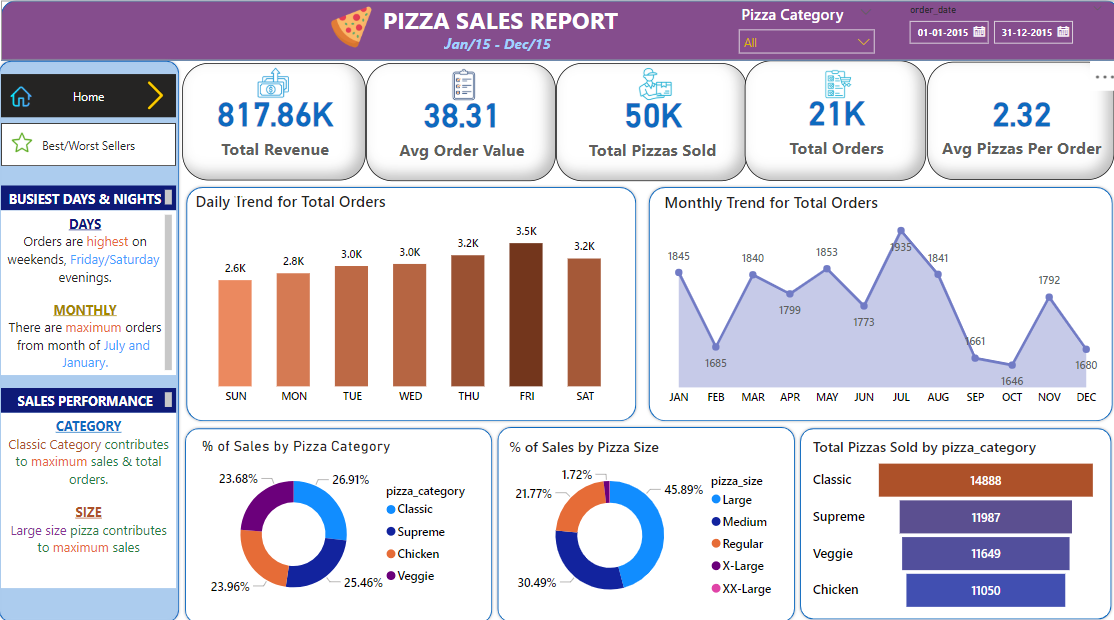

The dashboard page shown, as its layout file describes it:
{"tool":"powerbi","page":{"name":"Home","canvas":[1280,720],"ordinal":0},"visuals":[{"type":"group","id":"g1","title":"Group 6","box":[211.5,77.2,1060.5,137.7],"z":0},{"type":"card","fields":{"Values":["pizza_sales.Avg Pizzas Per Order"]},"box":[1059.3,78.5,212.7,134.5],"z":0,"group":"g1"},{"type":"card","fields":{"Values":["pizza_sales.Total Revenue"]},"box":[211.5,80.2,209.1,133.4],"z":0,"group":"g3"},{"type":"card","fields":{"Values":["pizza_sales.Avg Order Value"]},"box":[420.6,80.2,215.8,134.8],"z":0,"group":"g6"},{"type":"group","id":"g2","title":"Group 2","box":[636.4,80.2,217.2,134.8],"z":0,"group":"g4"},{"type":"card","fields":{"Values":["pizza_sales.Total Pizzas Sold"]},"box":[636.4,80.2,217.2,134.8],"z":1,"group":"g2"},{"type":"image","box":[282.1,77.4,65.2,50.9],"z":5,"group":"g3"},{"type":"shape","box":[6.1,8.6,1273.8,68.5],"z":1000},{"type":"group","id":"g3","title":"Group 1","box":[211.5,77.4,209.1,136.1],"z":1000,"group":"g1"},{"type":"image","box":[712.4,80.2,74.7,48.1],"z":1000,"group":"g4"},{"type":"textbox","box":[435.2,7.3,336.2,48.9],"z":2000},{"type":"card","fields":{"Values":["pizza_sales.Total Orders"]},"box":[852.1,77.2,206.6,136.9],"z":2000,"group":"g5"},{"type":"group","id":"g4","title":"Group 3","box":[636.4,80.2,217.2,134.8],"z":2000,"group":"g1"},{"type":"textbox","box":[504.9,37.9,199.3,36.7],"z":3000},{"type":"group","id":"g5","title":"Group 4","box":[852.1,77.2,206.6,136.9],"z":3000,"group":"g1"},{"type":"image","box":[363.1,9.8,83.1,57.5],"z":4000},{"type":"group","id":"g6","title":"Group 5","box":[420.6,80.2,215.8,134.8],"z":4000,"group":"g1"},{"type":"image","box":[924.2,83.2,67.9,42.6],"z":4001,"group":"g5"},{"type":"image","box":[490.9,81.3,82.8,46.8],"z":4002,"group":"g6"},{"type":"shape","box":[212.7,217.6,518.3,272.6],"z":5000},{"type":"columnChart","title":"Daily Trend for Total Orders","fields":{"Category":["pizza_sales.Order Day"],"Y":["pizza_sales.Total Orders"]},"box":[222.5,224.9,500,253],"z":6000},{"type":"shape","box":[739.6,217.6,534.2,272.6],"z":7000},{"type":"areaChart","title":"Monthly Trend for Total Orders","fields":{"Category":["pizza_sales.Order Month"],"Y":["pizza_sales.Total Orders"]},"box":[755.4,226.1,507.3,251.8],"z":8000},{"type":"shape","box":[211.5,491.4,355.7,228.6],"z":9000},{"type":"shape","box":[567.2,490.2,344.7,228.6],"z":10000},{"type":"shape","box":[911.9,491.4,360.6,223.7],"z":11000},{"type":"donutChart","title":"% of Sales by Pizza Category","fields":{"Category":["pizza_sales.pizza_category"],"Y":["pizza_sales.Total Revenue"]},"box":[228.6,504.9,322.7,202.9],"z":12000},{"type":"donutChart","title":"% of Sales by Pizza Size","fields":{"Y":["pizza_sales.Total Revenue"],"Category":["pizza_sales.pizza_size"]},"box":[579.4,504.9,321.5,202.9],"z":13000},{"type":"funnel","fields":{"Category":["pizza_sales.pizza_category"],"Y":["pizza_sales.Total Pizzas Sold"]},"box":[924.1,504.9,333.7,202.9],"z":14000},{"type":"shape","box":[0,74.6,211.5,645.4],"z":15000},{"type":"textbox","box":[185.8,209.9,156.5,31.8],"z":15002,"group":"g7"},{"type":"group","id":"g7","title":"Group 7","box":[185.8,209.9,156.5,31.8],"z":16000},{"type":"textbox","box":[6.1,218.8,199.3,28.1],"z":17000},{"type":"textbox","box":[6.1,246.9,199.3,187],"z":18000},{"type":"textbox","box":[6.1,449.8,199.3,28.1],"z":19000},{"type":"textbox","box":[6.1,478,199.3,199.3],"z":20000},{"type":"slicer","fields":{"Values":["pizza_sales.pizza_category"]},"box":[835.4,7.2,174.6,62],"z":21000},{"type":"slicer","fields":{"Values":["pizza_sales.order_date"]},"box":[1027.2,7.2,243.8,67.8],"z":22000},{"type":"pageNavigator","box":[5.7,92.4,199.1,49.8],"z":22001},{"type":"pageNavigator","box":[5.7,147.9,199.1,49.8],"z":22002},{"type":"image","box":[157.9,95.3,46.9,42.7],"z":22003},{"type":"image","box":[8.5,101,39.8,34.1],"z":22004},{"type":"image","box":[10,153.6,39.8,32.7],"z":22005}]}

Visuals, with their boxes in screenshot pixels (x1, y1, x2, y2), scaled from the page's 1280x720 canvas onto the 1114x620 screenshot:
"Group 6" group: l=184, t=66, r=1107, b=185
card - pizza_sales.Avg Pizzas Per Order: l=922, t=68, r=1107, b=183
card - pizza_sales.Total Revenue: l=184, t=69, r=366, b=184
card - pizza_sales.Avg Order Value: l=366, t=69, r=554, b=185
"Group 2" group: l=554, t=69, r=743, b=185
card - pizza_sales.Total Pizzas Sold: l=554, t=69, r=743, b=185
image: l=246, t=67, r=302, b=110
shape: l=5, t=7, r=1113, b=66
"Group 1" group: l=184, t=67, r=366, b=184
image: l=620, t=69, r=685, b=110
textbox: l=379, t=6, r=671, b=48
card - pizza_sales.Total Orders: l=742, t=66, r=921, b=184
"Group 3" group: l=554, t=69, r=743, b=185
textbox: l=439, t=33, r=613, b=64
"Group 4" group: l=742, t=66, r=921, b=184
image: l=316, t=8, r=388, b=58
"Group 5" group: l=366, t=69, r=554, b=185
image: l=804, t=72, r=863, b=108
image: l=427, t=70, r=499, b=110
shape: l=185, t=187, r=636, b=422
"Daily Trend for Total Orders" columnChart: l=194, t=194, r=629, b=412
shape: l=644, t=187, r=1109, b=422
"Monthly Trend for Total Orders" areaChart: l=657, t=195, r=1099, b=412
shape: l=184, t=423, r=494, b=619
shape: l=494, t=422, r=794, b=619
shape: l=794, t=423, r=1107, b=616
"% of Sales by Pizza Category" donutChart: l=199, t=435, r=480, b=609
"% of Sales by Pizza Size" donutChart: l=504, t=435, r=784, b=609
funnel - pizza_sales.pizza_category x pizza_sales.Total Pizzas Sold: l=804, t=435, r=1095, b=609
shape: l=0, t=64, r=184, b=619
textbox: l=162, t=181, r=298, b=208
"Group 7" group: l=162, t=181, r=298, b=208
textbox: l=5, t=188, r=179, b=213
textbox: l=5, t=213, r=179, b=374
textbox: l=5, t=387, r=179, b=412
textbox: l=5, t=412, r=179, b=583
slicer - pizza_sales.pizza_category: l=727, t=6, r=879, b=60
slicer - pizza_sales.order_date: l=894, t=6, r=1106, b=65
pageNavigator: l=5, t=80, r=178, b=122
pageNavigator: l=5, t=127, r=178, b=170
image: l=137, t=82, r=178, b=119
image: l=7, t=87, r=42, b=116
image: l=9, t=132, r=43, b=160
